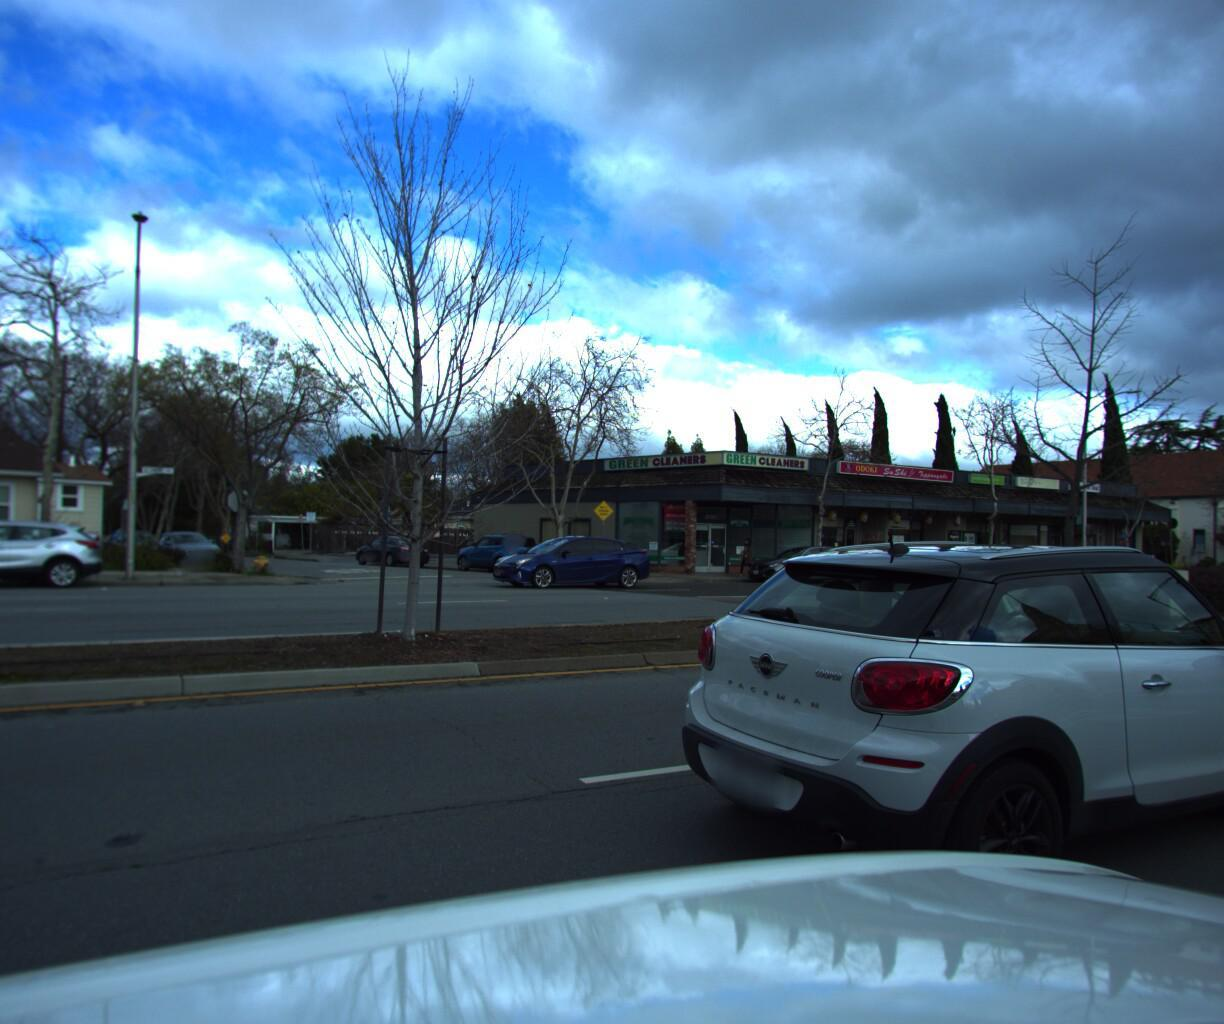car: (638, 522, 1224, 983), (482, 532, 654, 589), (0, 516, 108, 591), (0, 516, 113, 574), (736, 539, 864, 584), (837, 541, 959, 582), (446, 529, 546, 574), (1043, 539, 1142, 576), (149, 528, 228, 568), (350, 530, 433, 566)
